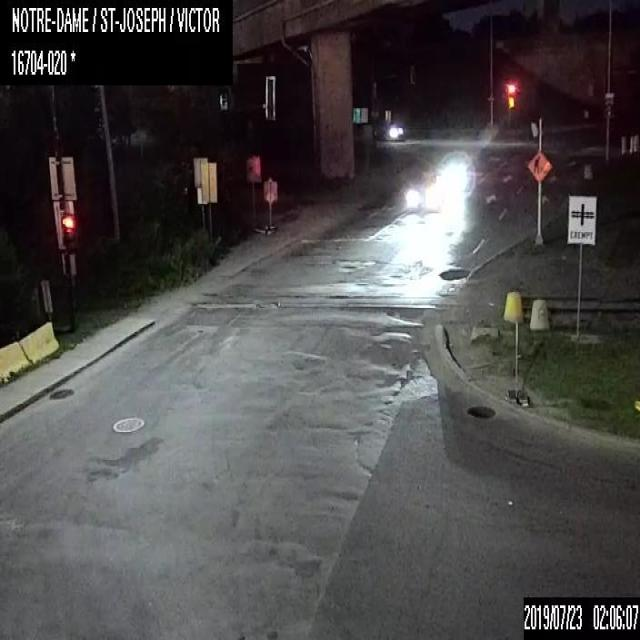construction: (527, 152, 552, 180), (628, 135, 632, 152), (633, 135, 637, 151), (620, 137, 624, 153)
vehicle: (372, 122, 403, 141)
